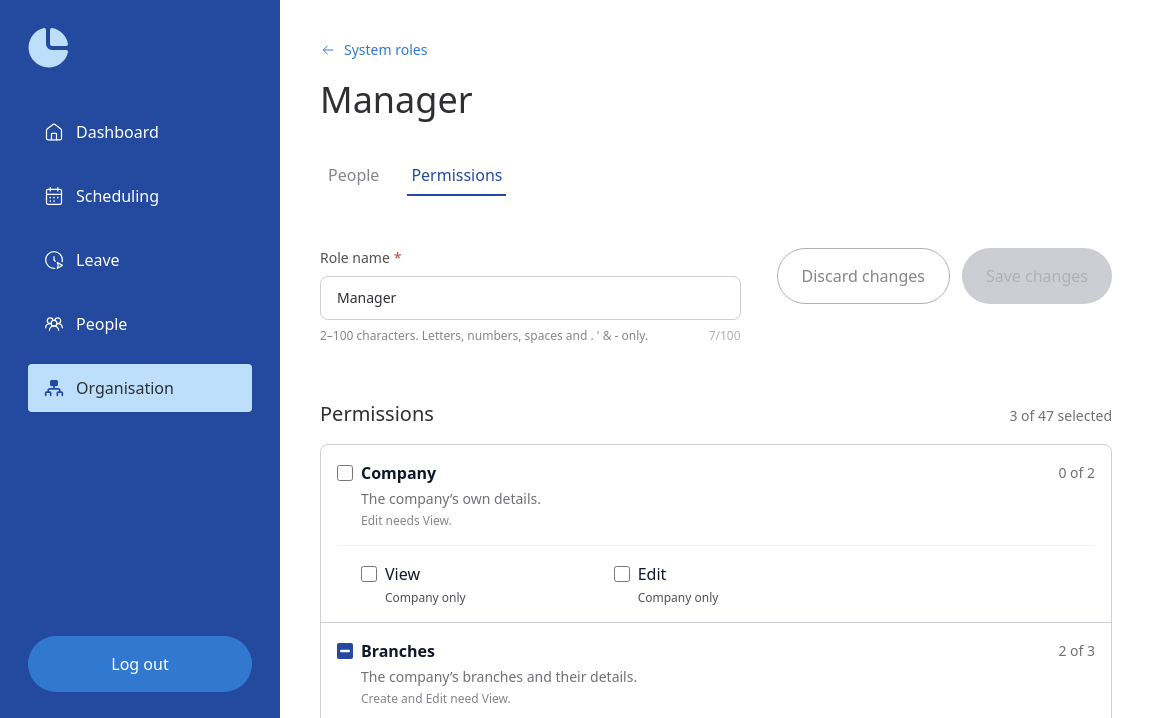
Test case: System role editor › puts back what was loaded when changes are discarded
The image size is (1152, 718).
In the field labelled "Role name*": (530, 298) left=337, top=288, right=724, bottom=308, type " two"
(page scrolled)
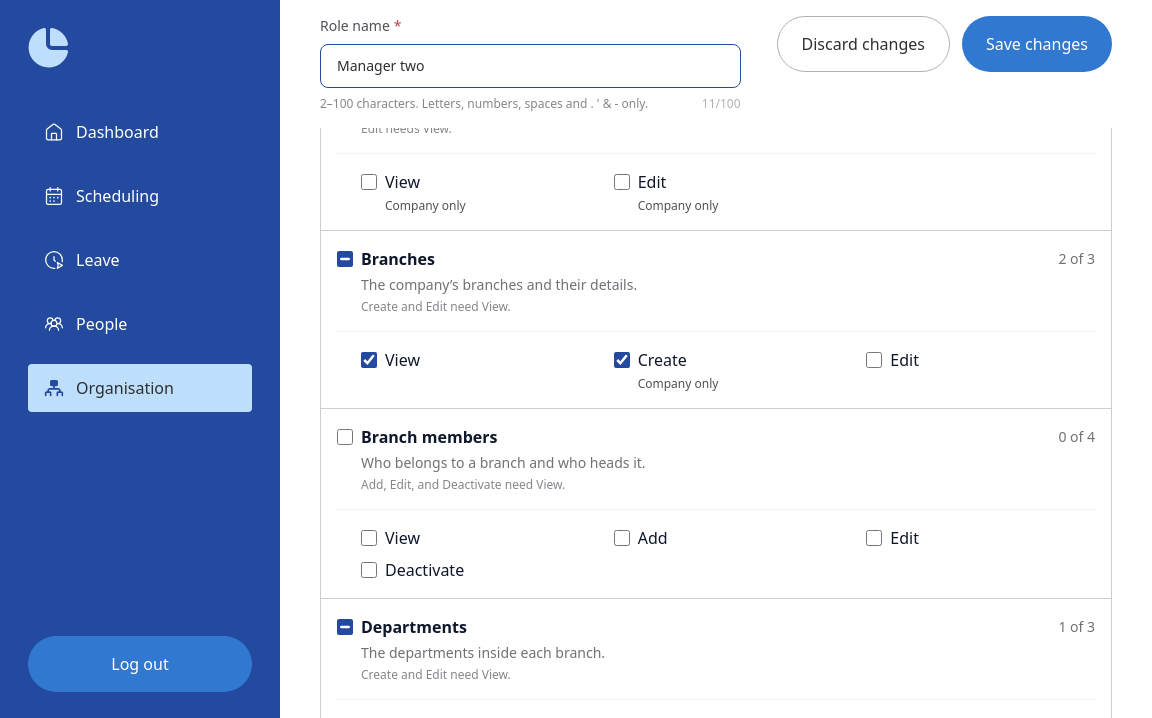
Click the 2nd checkbox labelled "View": (369, 360) left=361, top=352, right=377, bottom=368
(page scrolled)
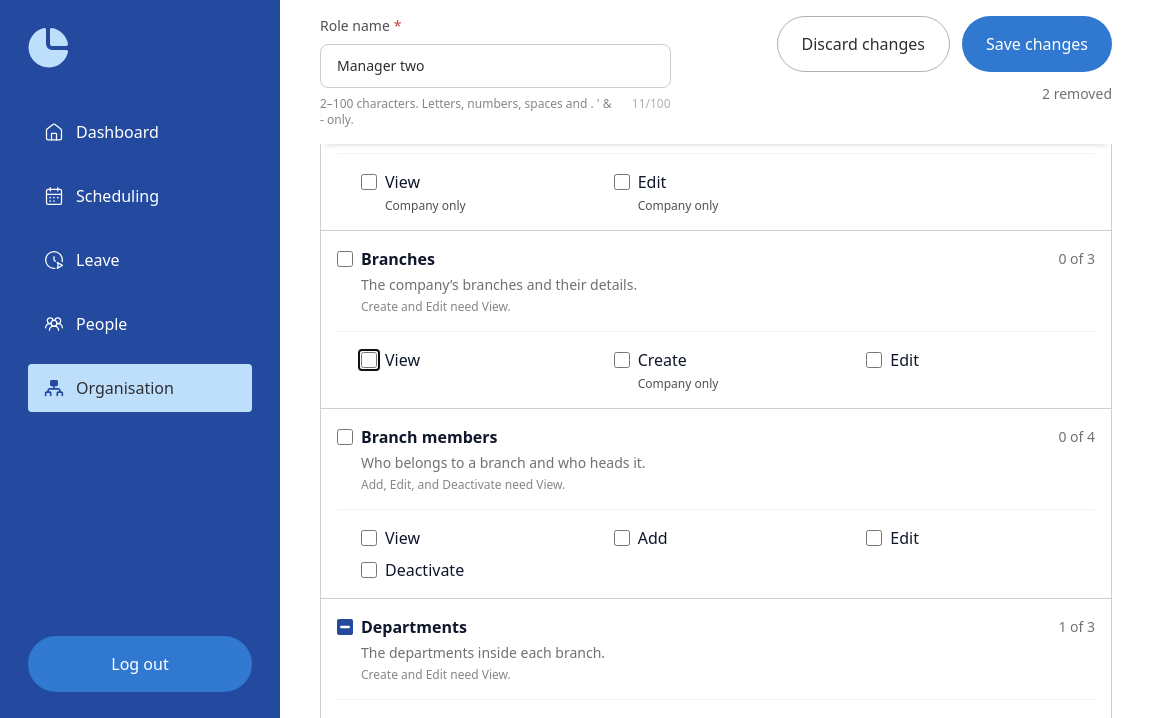
Result: the text "2 removed" is shown at left=1042, top=84, right=1112, bottom=103
Click the button "Discard changes": (863, 44) left=777, top=16, right=950, bottom=72
(page scrolled)
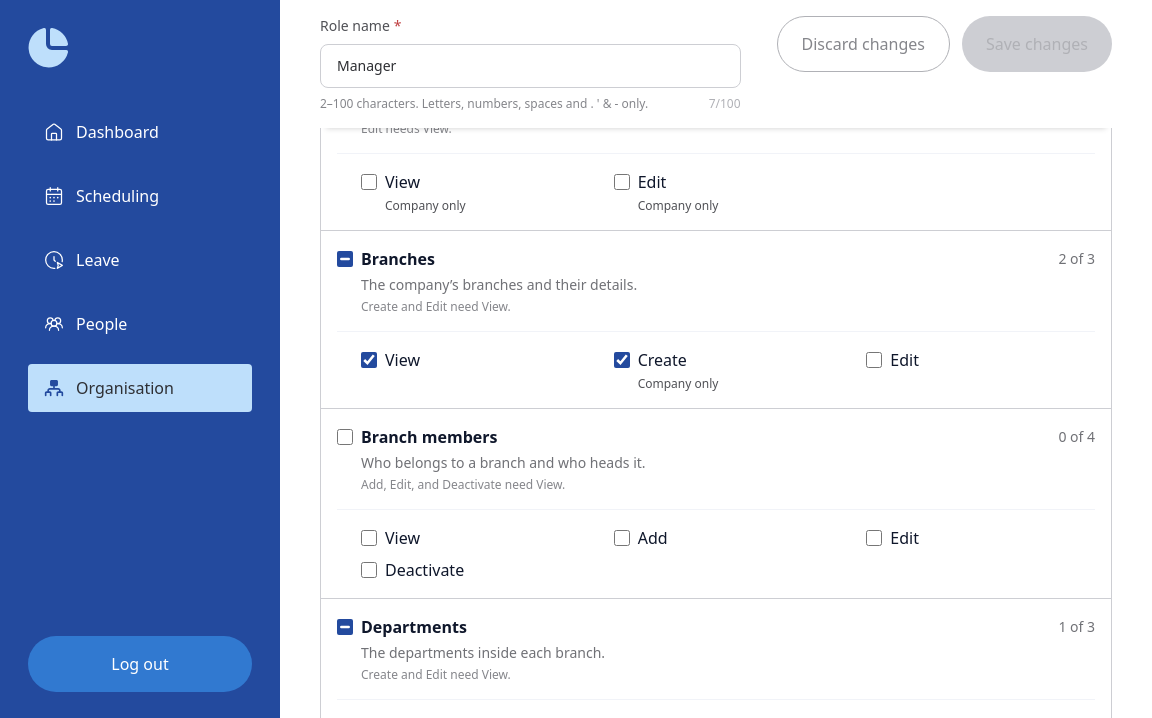
Result: the field labelled "Role name*" holds "Manager" at left=337, top=56, right=724, bottom=76
Result: the checkbox labelled "Create" is checked at left=614, top=352, right=630, bottom=368
Result: the button "Save changes" is disabled at left=962, top=16, right=1112, bottom=72
